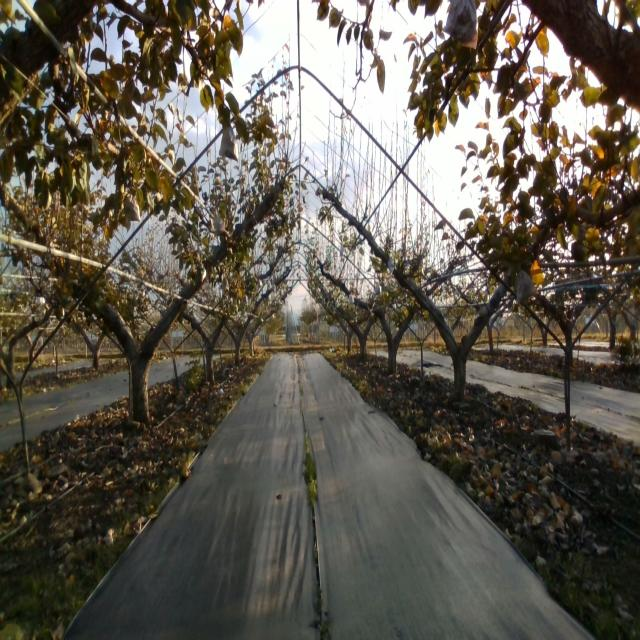pearbags: (444, 0, 480, 50), (515, 268, 537, 305), (219, 124, 238, 162), (124, 194, 142, 223), (213, 216, 226, 237)
